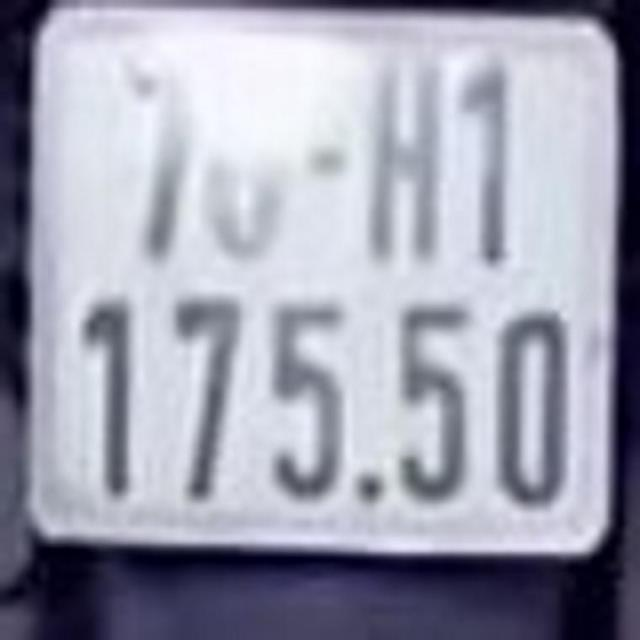0: (494, 310, 573, 500)
1: (78, 296, 140, 498), (465, 50, 513, 272)
5: (267, 295, 349, 492), (398, 299, 470, 506)
7: (119, 43, 193, 256), (172, 293, 245, 502)
8: (205, 45, 291, 258)
H: (370, 40, 450, 257)
